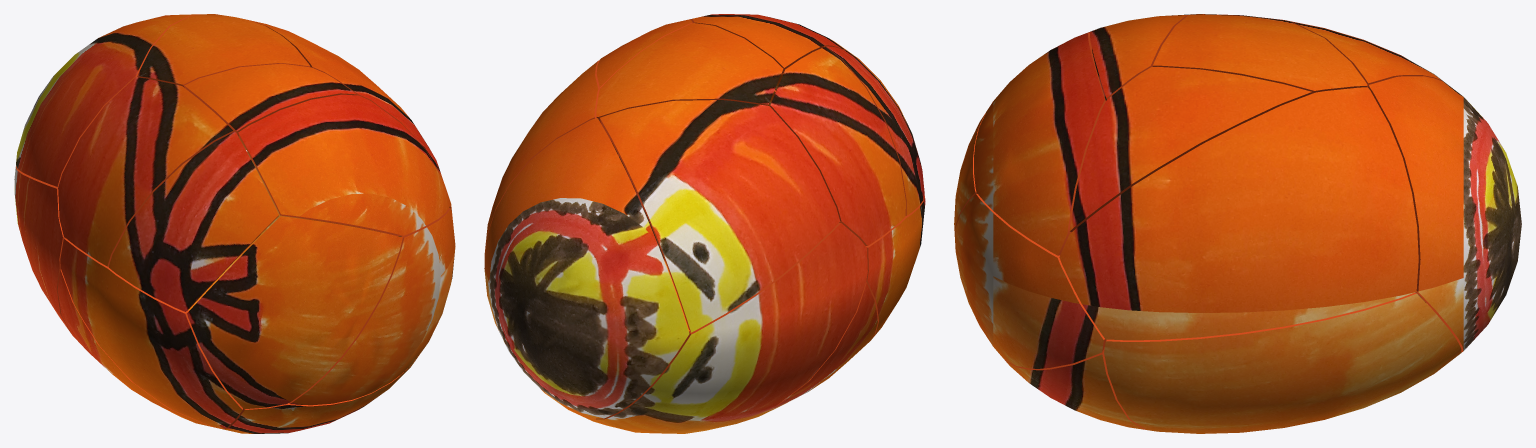
Rendered from egg_fragments.FBX.
3 views of the same model, side by side, from view 1: azimuth 30°, elevation 25°; view 2: azimuth 150°, elevation 25°; view 3: azimuth 270°, elevation 25° (orthographic). The views are drawn at different scales.
Visible parts, largest first — view 1: shell003, shell014, shell009, shell010, shell004, shell006, shell015, shell011, shell012, shell007, shell005, shell013 (+2 smaller); view 2: shell016, shell015, shell007, shell009, shell011, shell001, shell004, shell010, shell012, shell002, shell013, shell014; view 3: shell001, shell008, shell016, shell014, shell013, shell006, shell011, shell005, shell012, shell015, shell003.
Boxes of the visible parts, x1=… form: shell003: x1=187, y1=216, x2=402, y2=409; shell014: x1=238, y1=94, x2=449, y2=235; shell009: x1=58, y1=77, x2=233, y2=266; shell010: x1=108, y1=131, x2=278, y2=311; shell004: x1=60, y1=238, x2=242, y2=428; shell006: x1=289, y1=208, x2=455, y2=405; shell015: x1=16, y1=14, x2=200, y2=186; shell011: x1=137, y1=14, x2=310, y2=89; shell012: x1=184, y1=63, x2=356, y2=136; shell007: x1=14, y1=166, x2=70, y2=332; shell005: x1=224, y1=354, x2=419, y2=433; shell013: x1=256, y1=22, x2=442, y2=179; shell016: x1=484, y1=118, x2=689, y2=418; shell015: x1=600, y1=100, x2=840, y2=332; shell007: x1=596, y1=223, x2=867, y2=433; shell009: x1=769, y1=47, x2=905, y2=245; shell011: x1=596, y1=23, x2=783, y2=122; shell001: x1=484, y1=60, x2=617, y2=258; shell004: x1=866, y1=195, x2=925, y2=336; shell010: x1=826, y1=46, x2=924, y2=215; shell012: x1=690, y1=14, x2=824, y2=74; shell002: x1=744, y1=282, x2=877, y2=421; shell013: x1=596, y1=19, x2=692, y2=87; shell014: x1=719, y1=14, x2=852, y2=54; shell001: x1=1059, y1=87, x2=1418, y2=340; shell008: x1=1104, y1=292, x2=1461, y2=433; shell016: x1=1368, y1=76, x2=1521, y2=351; shell014: x1=974, y1=33, x2=1105, y2=255; shell013: x1=1069, y1=67, x2=1311, y2=231; shell006: x1=955, y1=193, x2=1106, y2=368; shell011: x1=1152, y1=14, x2=1367, y2=94; shell005: x1=1004, y1=348, x2=1145, y2=429; shell012: x1=1089, y1=15, x2=1189, y2=99; shell015: x1=1261, y1=17, x2=1452, y2=88; shell003: x1=954, y1=97, x2=996, y2=236.
Bounding box in the file's own units: 2.07 × 2.78 × 2.06.
Materials: 1 (1 with a texture image).
